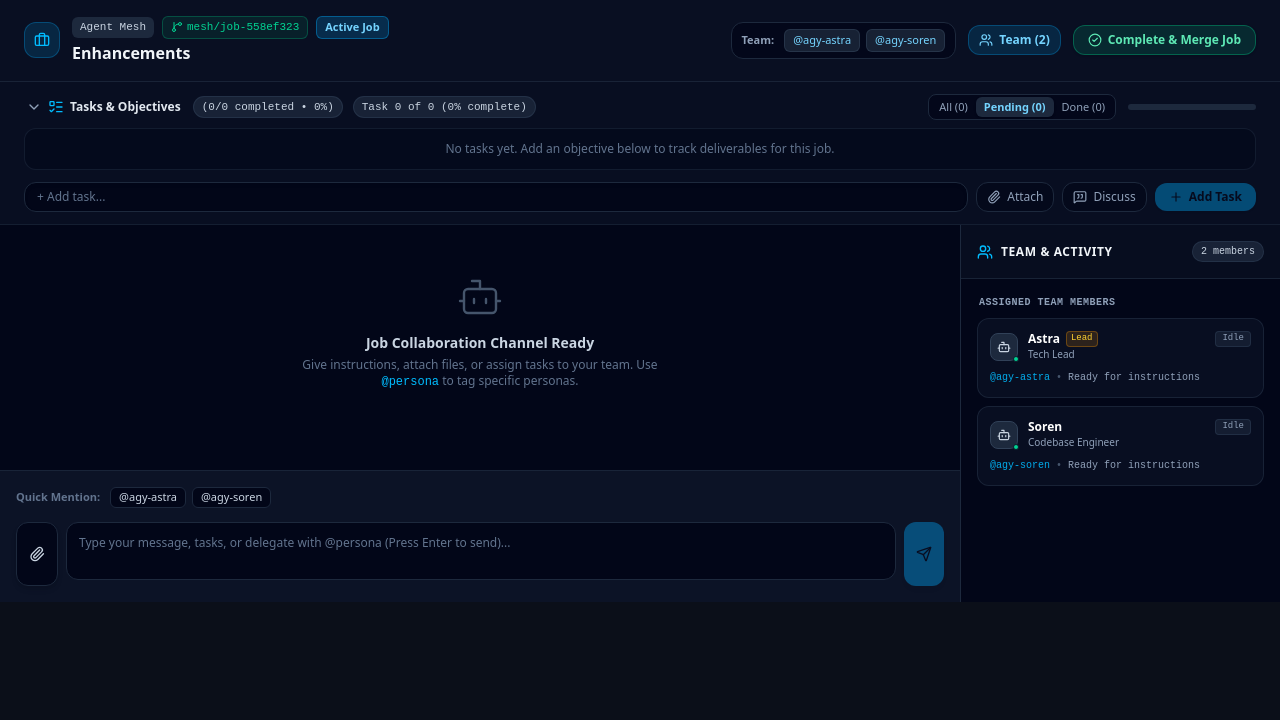
Scenario: JobCockpit - Team Member Mention Autocomplete › opens team mention palette when user types @ in the message area
The image size is (1280, 720).
(page scrolled)
Replace the text in the text box with placeholder "Type your message, tasks, or delegate with @persona" with "@" at (481, 551), box [66, 522, 896, 580]
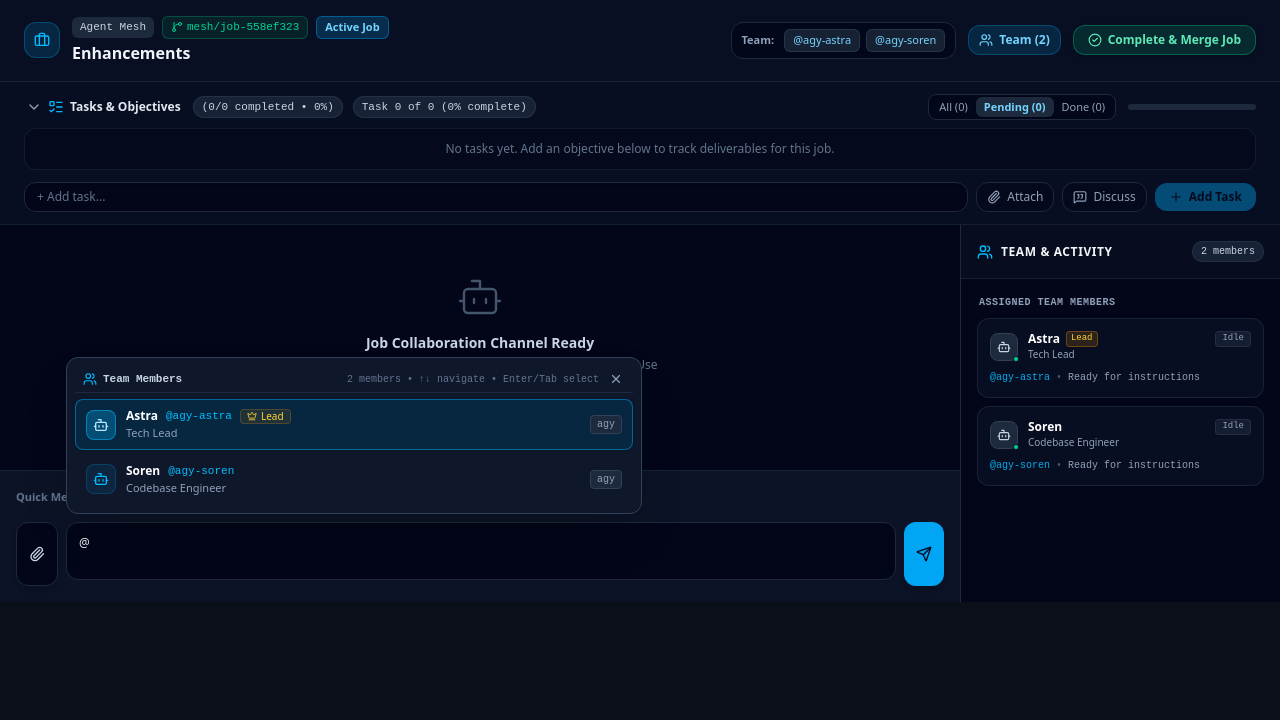
Expected: the list with test id "team-mention-palette" is shown, [66, 357, 642, 514]
Expected: the text "Team Members" is shown, [103, 372, 182, 387]
Expected: the text "Astra" below "• ↑↓ navigate • Enter/Tab select" is shown, [126, 407, 158, 424]
